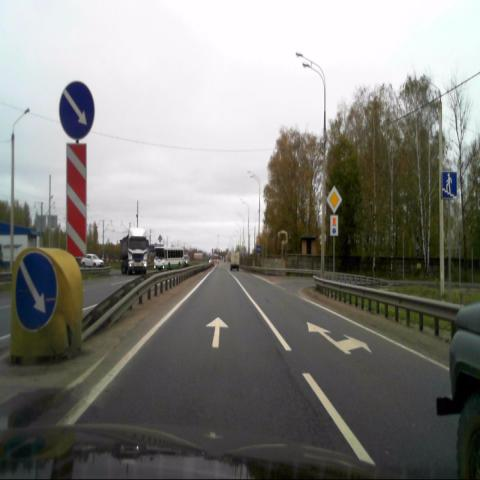6_7: (442, 172, 456, 199)
